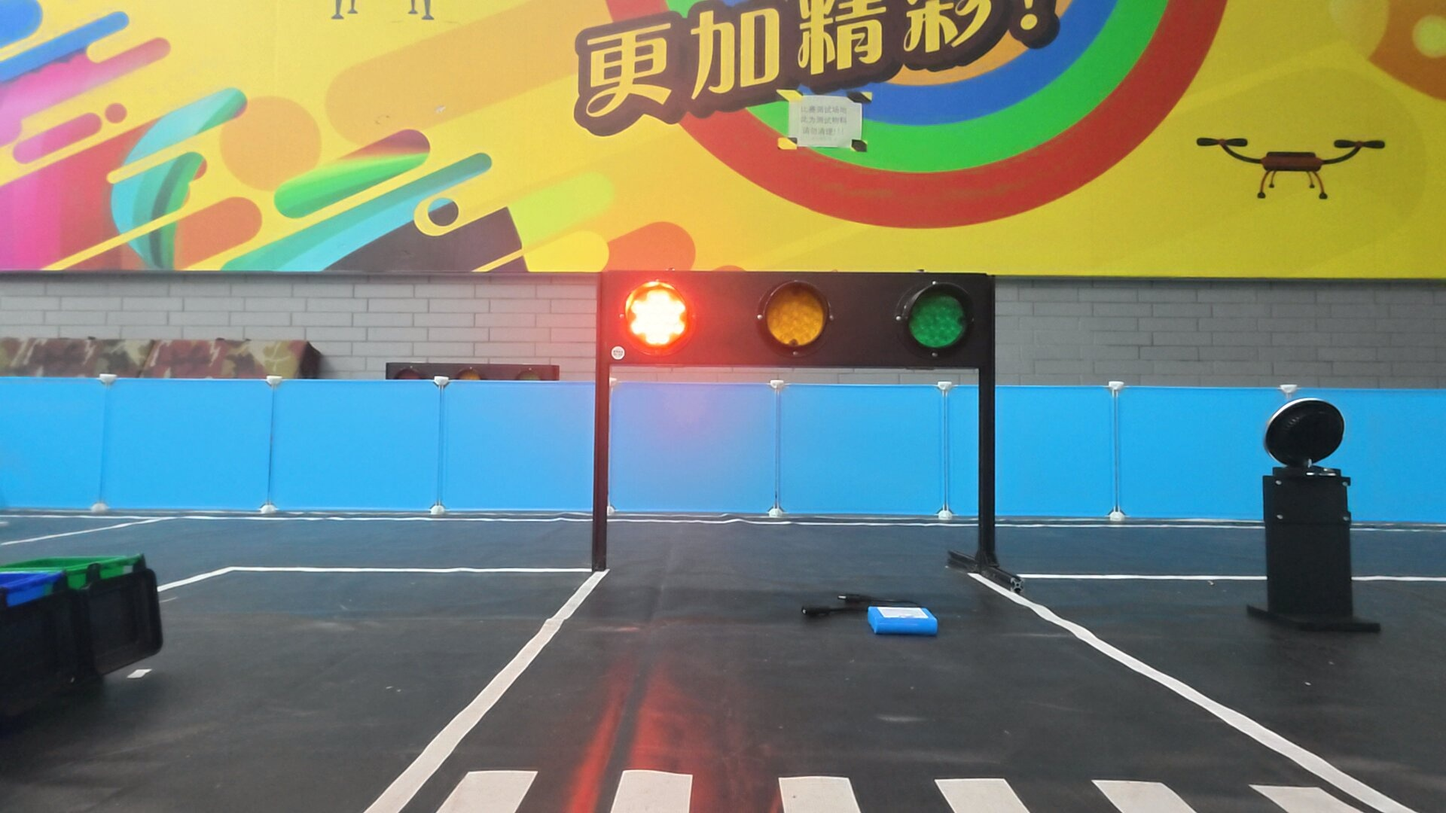stop: (619, 277, 694, 354)
